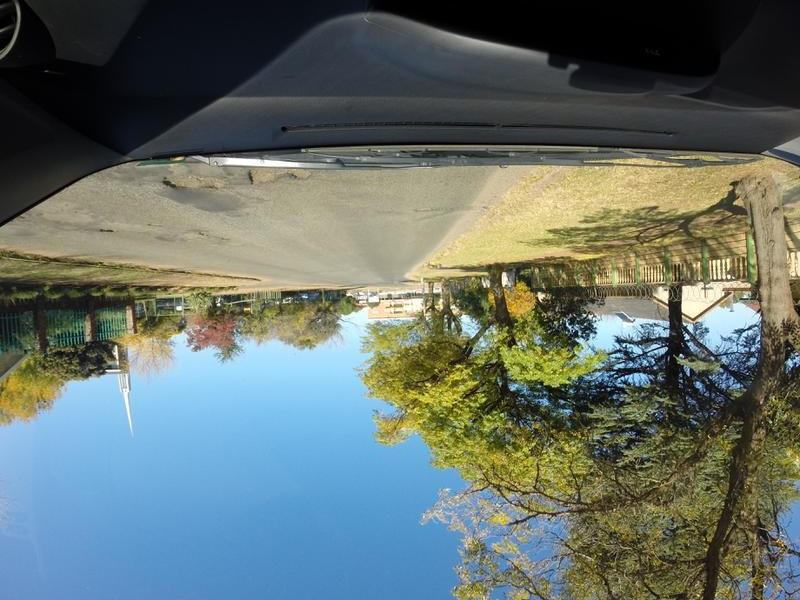pothole: (137, 171, 224, 188), (241, 167, 315, 181), (402, 202, 475, 210), (92, 228, 115, 233), (196, 230, 208, 238), (214, 235, 225, 242), (138, 224, 160, 226)
